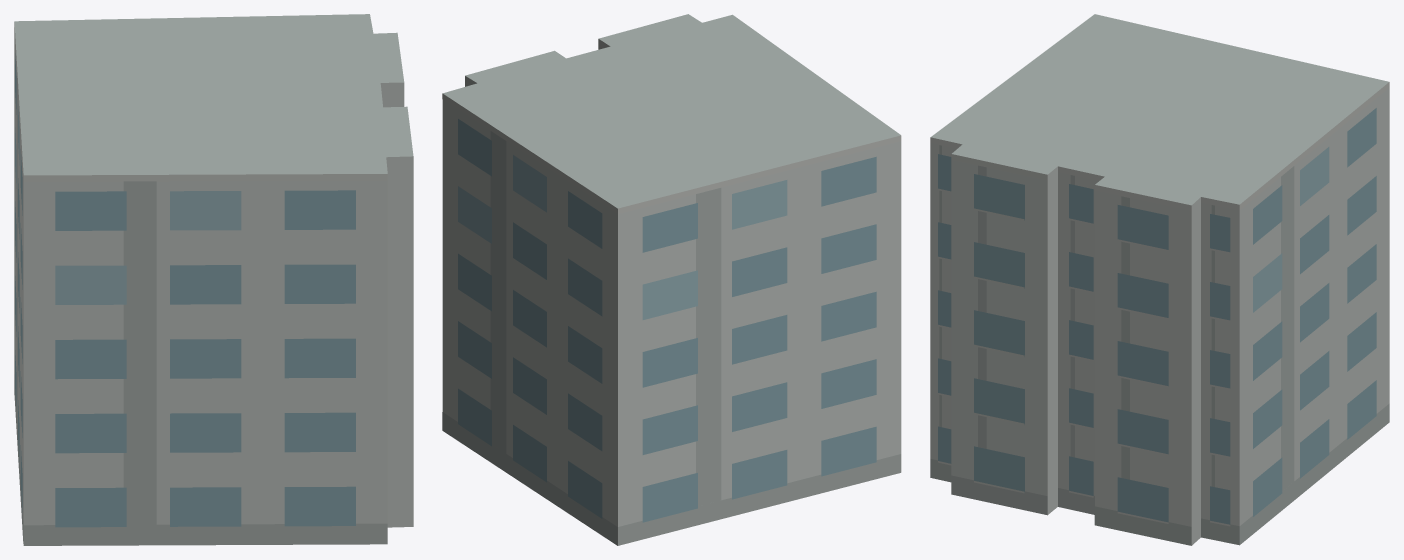
The model's file is survey-upis-32892033.glb.
3 views of the same model, side by side, from view 1: azimuth 30°, elevation 25°; view 2: azimuth 150°, elevation 25°; view 3: azimuth 270°, elevation 25° (orthographic). The views are drawn at different scales.
Parts seen in each view (by area): view 1: survey-upis-32892033.tmp; view 2: survey-upis-32892033.tmp; view 3: survey-upis-32892033.tmp.
Part boxes in pixels (x1,y1,x2,y2): survey-upis-32892033.tmp: [14, 14, 413, 545]; survey-upis-32892033.tmp: [442, 14, 901, 545]; survey-upis-32892033.tmp: [930, 14, 1389, 545].
Size of the model in its own units: 17.13 by 14.2 by 17.36.
